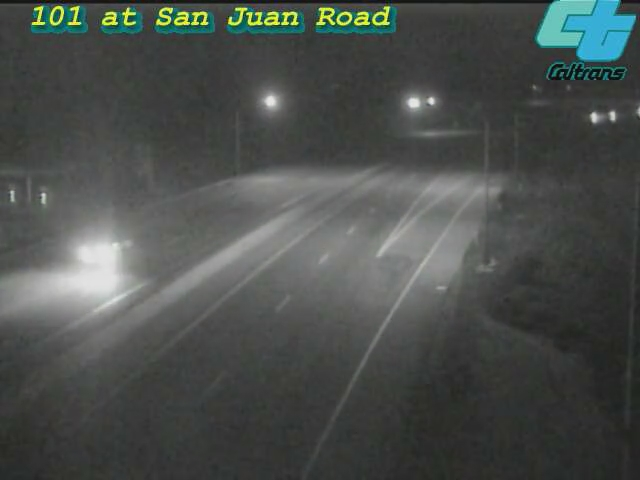vehicle: (53, 217, 133, 297), (589, 90, 639, 140), (570, 93, 620, 143)
